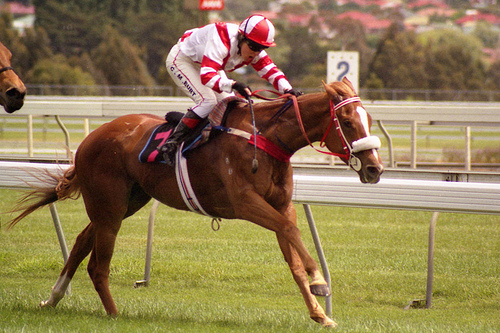without_mask: (235, 24, 276, 69)
